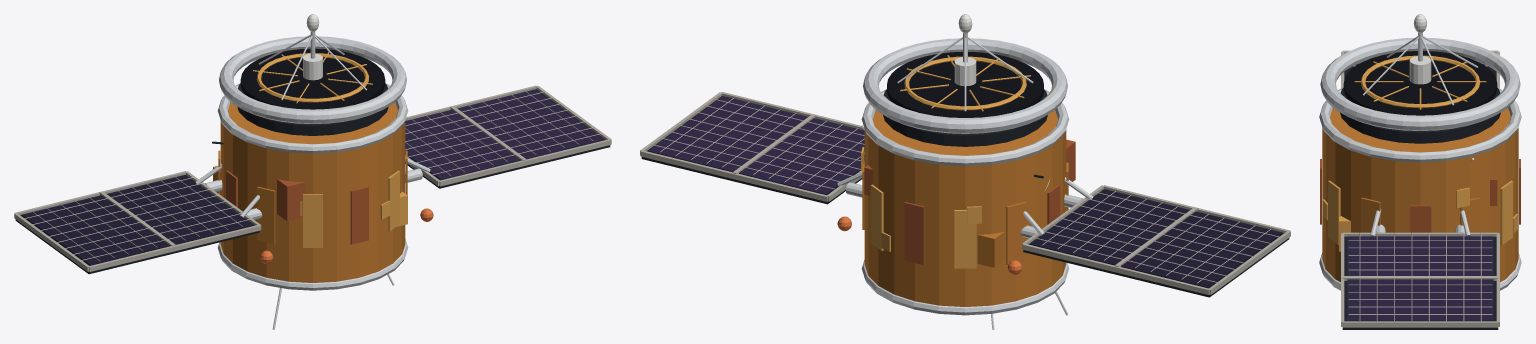
The model's file is APPLE.glb.
3 views of the same model, side by side, from view 1: azimuth 30°, elevation 25°; view 2: azimuth 150°, elevation 25°; view 3: azimuth 270°, elevation 25° (orthographic). The views are drawn at different scales.
Visible parts, largest first — view 1: APPLE_MAIN_BODY, APPLE_LEFT_PANEL_FACE, APPLE_RIGHT_PANEL_FACE, APPLE_TOP_DISH_RING, APPLE_DARK_DISH_SURFACE, APPLE_BODY_THERMAL_FACETS, APPLE_LEFT_FRAME, APPLE_RIGHT_FRAME, APPLE_LEFT_CELL_GRID, APPLE_RIGHT_CELL_GRID, APPLE_TOP_RING, APPLE_TOP_DECK (+9 smaller); view 2: APPLE_MAIN_BODY, APPLE_LEFT_PANEL_FACE, APPLE_RIGHT_PANEL_FACE, APPLE_TOP_DISH_RING, APPLE_DARK_DISH_SURFACE, APPLE_BODY_THERMAL_FACETS, APPLE_LEFT_FRAME, APPLE_RIGHT_FRAME, APPLE_LEFT_CELL_GRID, APPLE_TOP_RING, APPLE_RIGHT_CELL_GRID, APPLE_TOP_DECK (+11 smaller); view 3: APPLE_MAIN_BODY, APPLE_RIGHT_PANEL_FACE, APPLE_TOP_DISH_RING, APPLE_DARK_DISH_SURFACE, APPLE_BODY_THERMAL_FACETS, APPLE_RIGHT_FRAME, APPLE_RIGHT_CELL_GRID, APPLE_TOP_RING, APPLE_TOP_DECK, APPLE_DISH_INNER_RING, APPLE_RIGHT_PANEL_BACKING, APPLE_DISH_SUPPORTS (+8 smaller).
Boxes of the visible parts, <box> form: APPLE_MAIN_BODY: <box>220,102,405,282</box>; APPLE_LEFT_PANEL_FACE: <box>21,175,253,265</box>; APPLE_RIGHT_PANEL_FACE: <box>405,89,603,180</box>; APPLE_TOP_DISH_RING: <box>219,36,406,123</box>; APPLE_DARK_DISH_SURFACE: <box>240,48,385,109</box>; APPLE_BODY_THERMAL_FACETS: <box>218,150,407,247</box>; APPLE_LEFT_FRAME: <box>14,171,261,271</box>; APPLE_RIGHT_FRAME: <box>405,85,611,186</box>; APPLE_LEFT_CELL_GRID: <box>24,177,251,261</box>; APPLE_RIGHT_CELL_GRID: <box>405,91,602,175</box>; APPLE_TOP_RING: <box>217,83,408,153</box>; APPLE_TOP_DECK: <box>237,83,388,135</box>; APPLE_MAIN_BODY: <box>864,110,1066,306</box>; APPLE_LEFT_PANEL_FACE: <box>1030,189,1282,288</box>; APPLE_RIGHT_PANEL_FACE: <box>648,96,864,194</box>; APPLE_TOP_DISH_RING: <box>863,38,1067,133</box>; APPLE_DARK_DISH_SURFACE: <box>887,52,1043,117</box>; APPLE_BODY_THERMAL_FACETS: <box>862,162,1068,268</box>; APPLE_LEFT_FRAME: <box>1022,185,1290,294</box>; APPLE_RIGHT_FRAME: <box>640,92,864,201</box>; APPLE_LEFT_CELL_GRID: <box>1032,191,1280,283</box>; APPLE_TOP_RING: <box>861,89,1069,166</box>; APPLE_RIGHT_CELL_GRID: <box>650,98,864,190</box>; APPLE_TOP_DECK: <box>883,89,1047,146</box>; APPLE_MAIN_BODY: <box>1322,108,1518,282</box>; APPLE_RIGHT_PANEL_FACE: <box>1347,236,1493,321</box>; APPLE_TOP_DISH_RING: <box>1320,38,1520,130</box>; APPLE_DARK_DISH_SURFACE: <box>1343,51,1497,115</box>; APPLE_BODY_THERMAL_FACETS: <box>1320,159,1520,245</box>; APPLE_RIGHT_FRAME: <box>1341,232,1499,327</box>; APPLE_RIGHT_CELL_GRID: <box>1348,233,1492,321</box>; APPLE_TOP_RING: <box>1319,87,1521,162</box>; APPLE_TOP_DECK: <box>1340,88,1500,143</box>; APPLE_DISH_INNER_RING: <box>1360,55,1480,108</box>; APPLE_RIGHT_PANEL_BACKING: <box>1342,236,1498,329</box>; APPLE_DISH_SUPPORTS: <box>1363,36,1477,105</box>.
Size of the model in its own units: 5.37 by 2.74 by 1.69.
